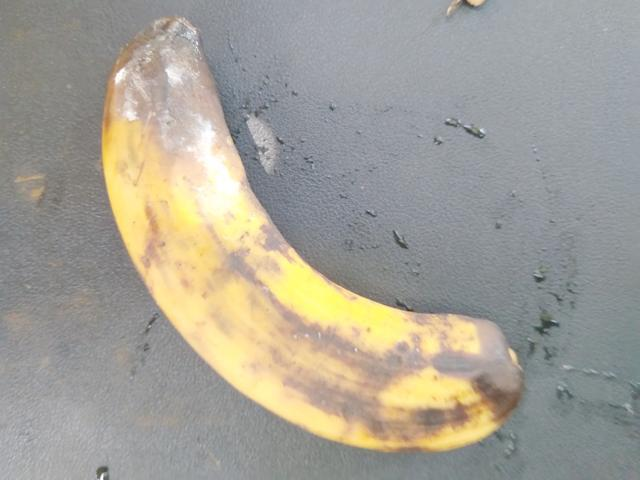overripe: (90, 20, 530, 479)
